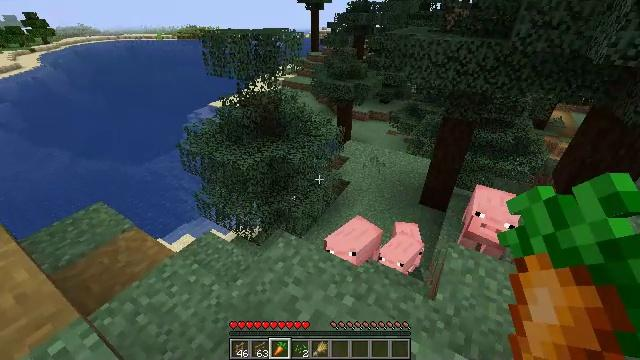pig: (461, 183, 522, 263), (325, 215, 383, 267), (379, 233, 423, 275)
